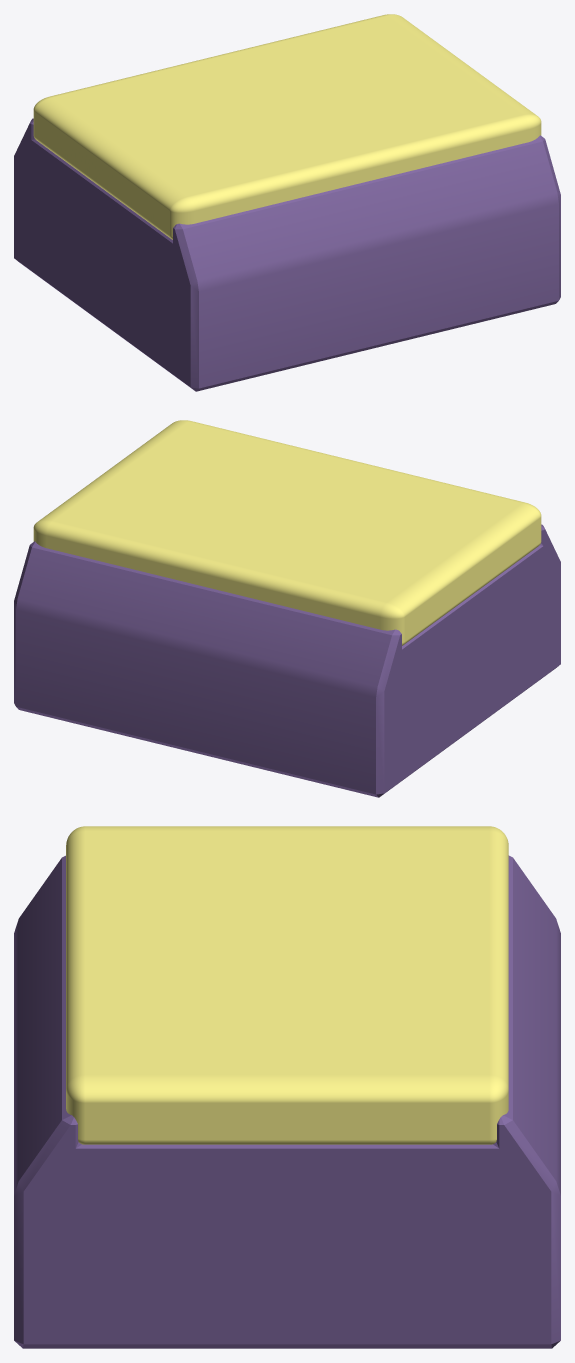
The picture shows the model from 3 angles, top to bottom: view 1: azimuth 30°, elevation 25°; view 2: azimuth 150°, elevation 25°; view 3: azimuth 270°, elevation 25°; orthographic projection. The views are drawn at different scales.
Parts seen in each view (by area): view 1: Cube.006, Plane.009; view 2: Cube.006, Plane.009; view 3: Plane.009, Cube.006.
Boxes of the visible parts, x1,y1,x2,y2 form: Cube.006: [14, 118, 560, 391]; Plane.009: [33, 14, 541, 239]; Cube.006: [14, 524, 560, 797]; Plane.009: [33, 420, 541, 645]; Plane.009: [66, 826, 508, 1144]; Cube.006: [14, 855, 560, 1348].
Bounding box in the file's own units: 155 × 70.78 × 133.
